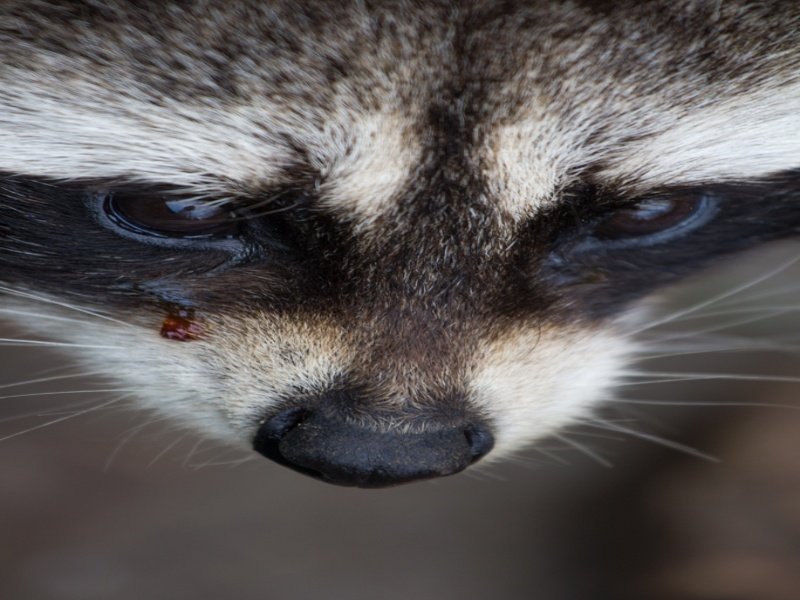raccoon: (2, 1, 791, 500)
